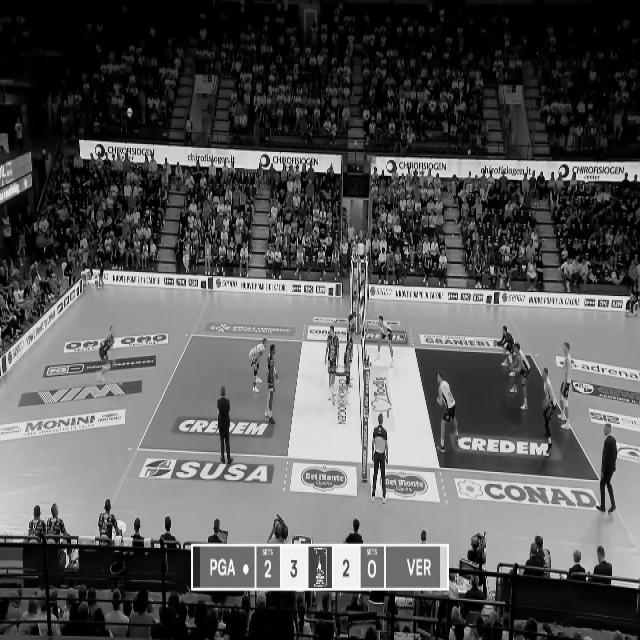volleyball court: (134, 338, 602, 483)
